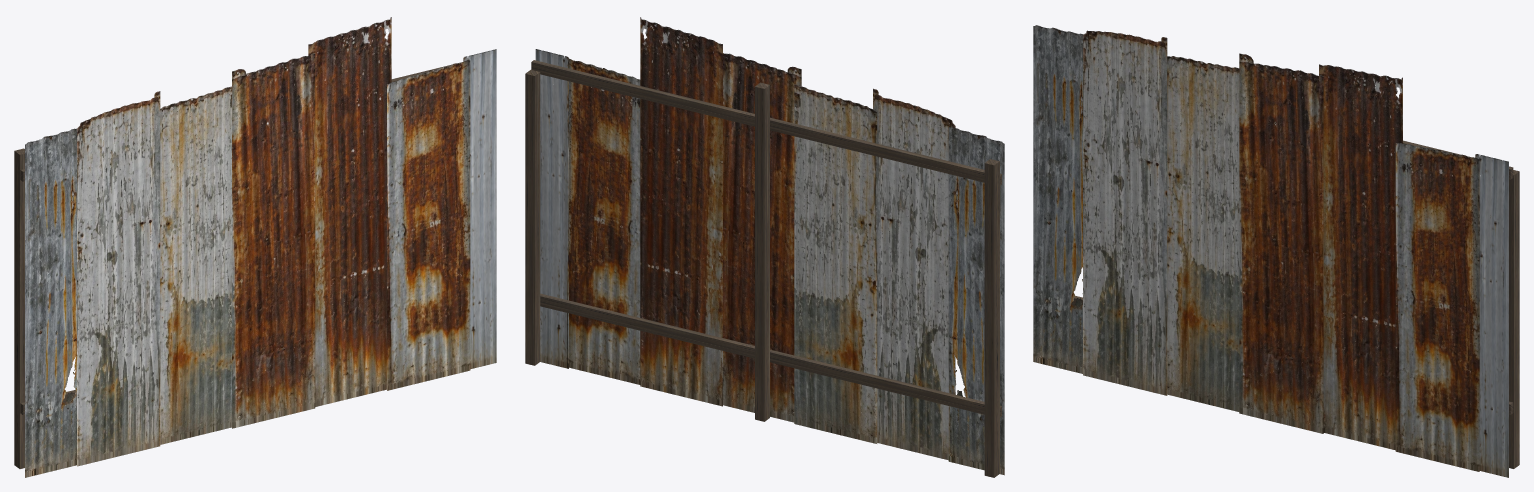
The model's file is pared_zinc_tramo_lod2.glb.
3 views of the same model, side by side, from view 1: azimuth 30°, elevation 25°; view 2: azimuth 150°, elevation 25°; view 3: azimuth 330°, elevation 25° (orthographic).
Visible parts, largest first — view 1: Pared_Zinc_tramo_LOD2; view 2: Pared_Zinc_tramo_LOD2; view 3: Pared_Zinc_tramo_LOD2.
Part boxes in pixels (bbox=[...]): Pared_Zinc_tramo_LOD2: bbox=[14, 17, 496, 477]; Pared_Zinc_tramo_LOD2: bbox=[525, 17, 1004, 477]; Pared_Zinc_tramo_LOD2: bbox=[1033, 25, 1519, 477].
Bounding box in the file's own units: 4.87 × 3.69 × 0.213.
1 material, 1 textured.
